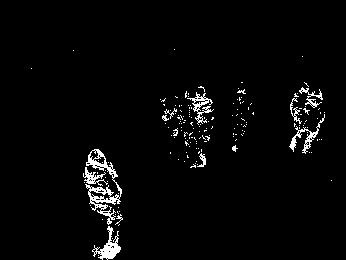person: (79, 149, 122, 260), (184, 85, 215, 169), (230, 81, 255, 153), (301, 87, 325, 155), (290, 78, 310, 151)
